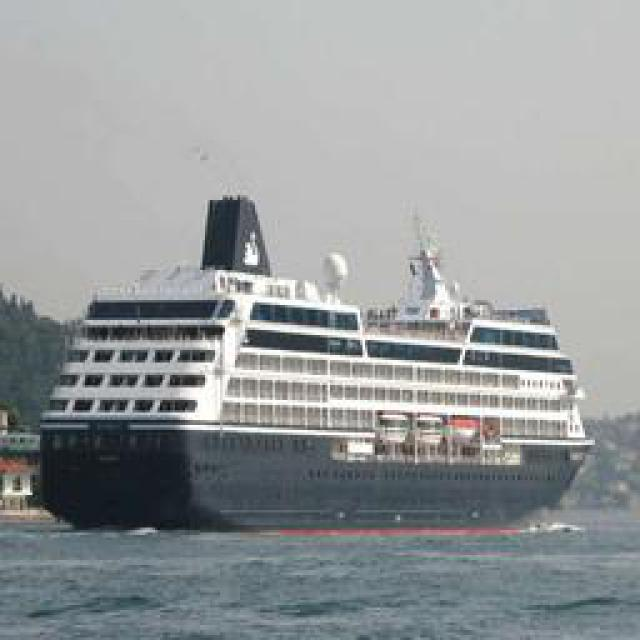Ship: (34, 182, 594, 532)
